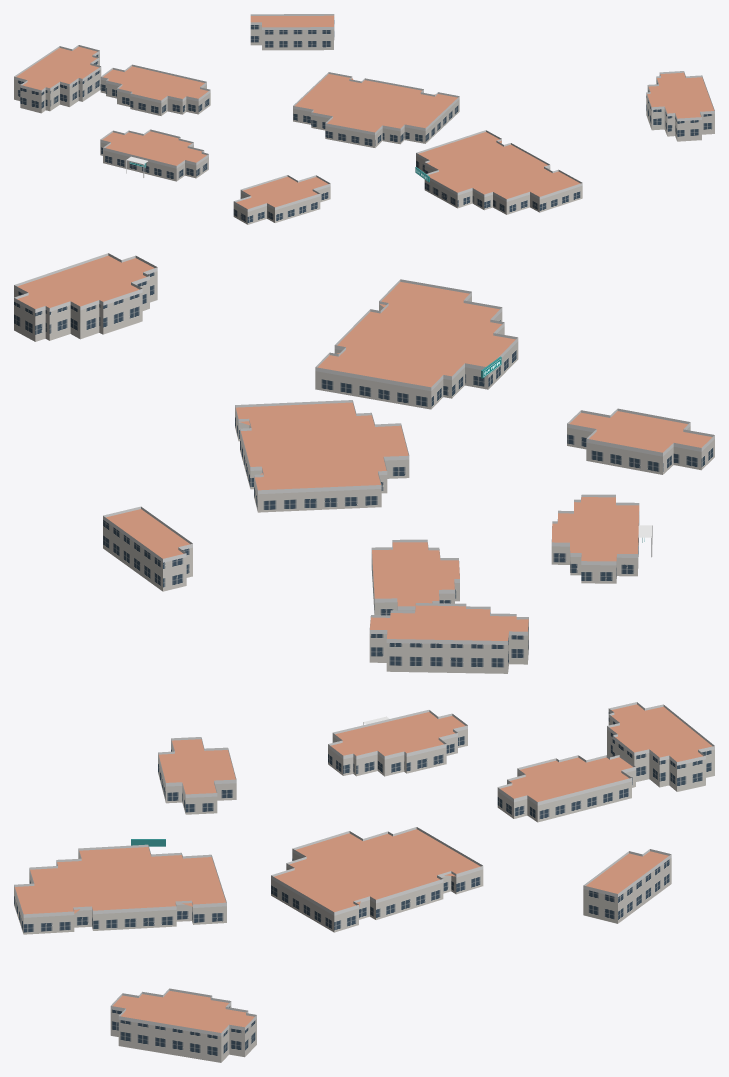
The model's file is divi.glb.
The picture shows the model from 3 angles, top to bottom: view 1: azimuth 30°, elevation 25°; view 2: azimuth 150°, elevation 25°; view 3: azimuth 270°, elevation 25°; orthographic projection. The views are drawn at different scales.
Parts seen in each view (by area): view 1: divi_lod0; view 2: divi_lod0; view 3: divi_lod0.
Part boxes in pixels (x1=…): divi_lod0: x1=14, y1=14, x2=714, y2=224; divi_lod0: x1=14, y1=253, x2=714, y2=673; divi_lod0: x1=14, y1=702, x2=714, y2=1062.
Size of what is drawn, in the model's own units: 138 by 6.38 by 124.
Materials: 5 (2 with a texture image).
